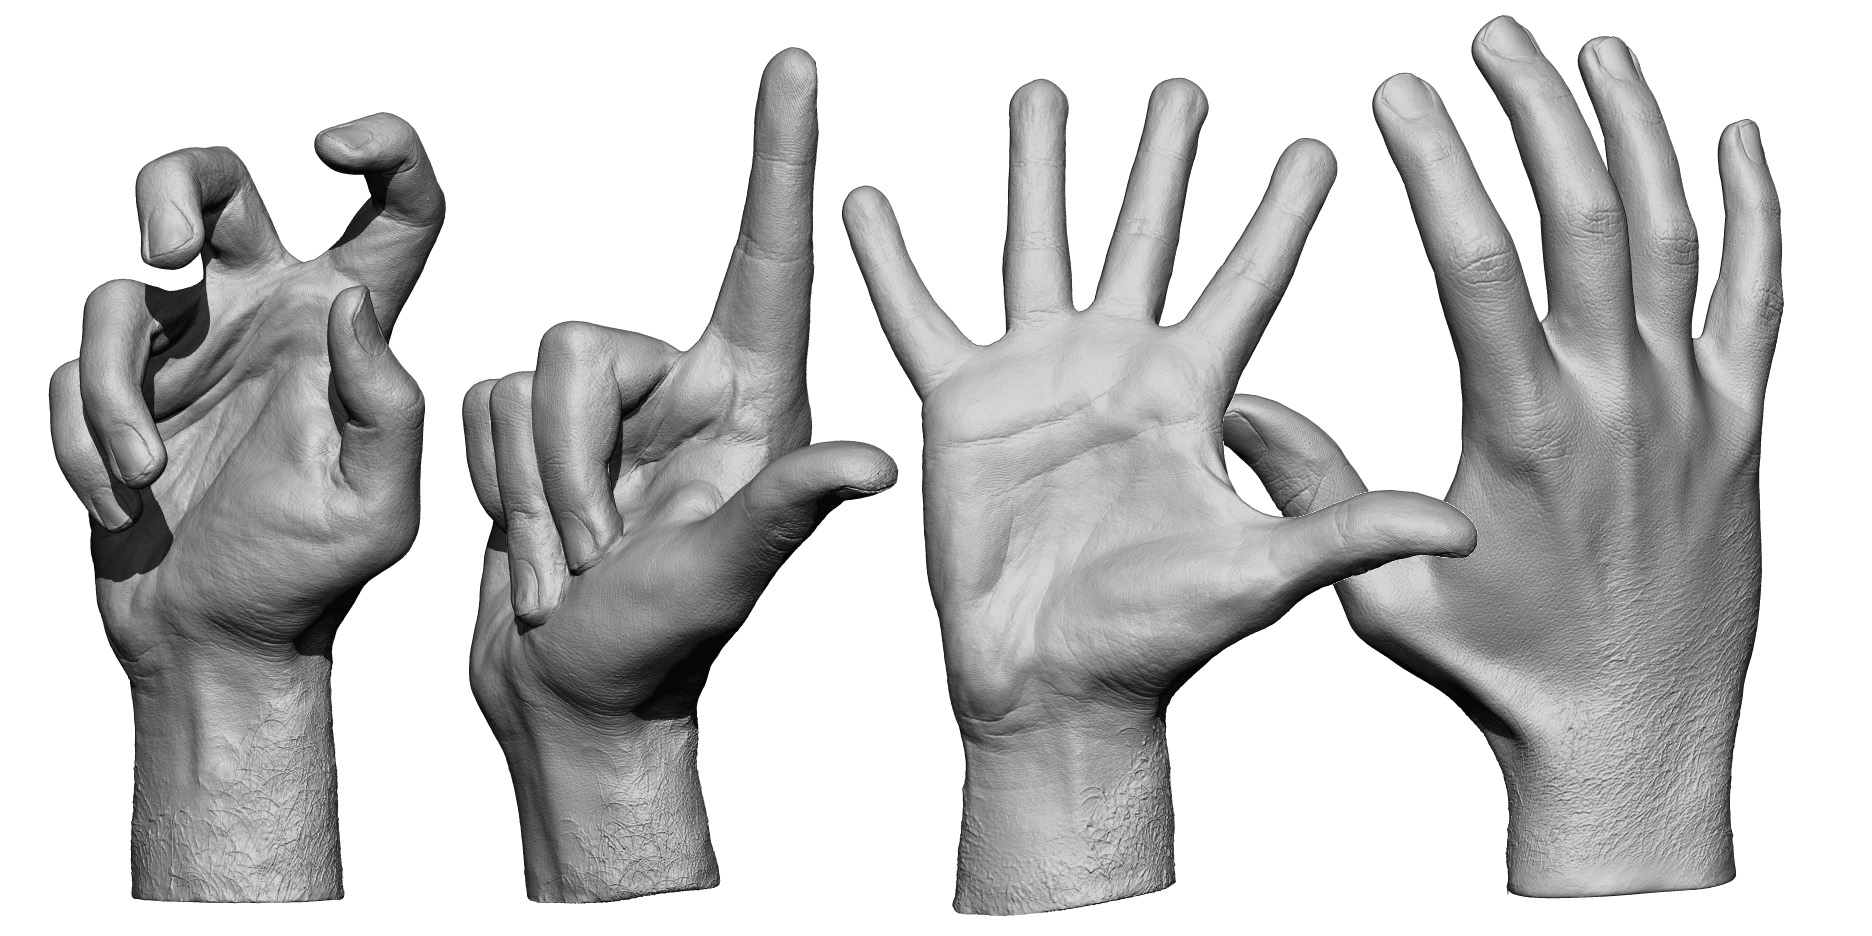finger: (1367, 63, 1552, 425), (1463, 8, 1642, 351), (694, 37, 846, 368), (529, 295, 677, 579), (1576, 21, 1702, 339), (1165, 129, 1346, 350), (837, 179, 984, 389), (1090, 76, 1217, 320), (310, 99, 452, 283), (133, 121, 285, 281), (1702, 111, 1786, 390), (72, 275, 168, 487), (43, 356, 141, 552), (489, 367, 559, 630), (1005, 70, 1076, 330), (458, 375, 518, 537)
